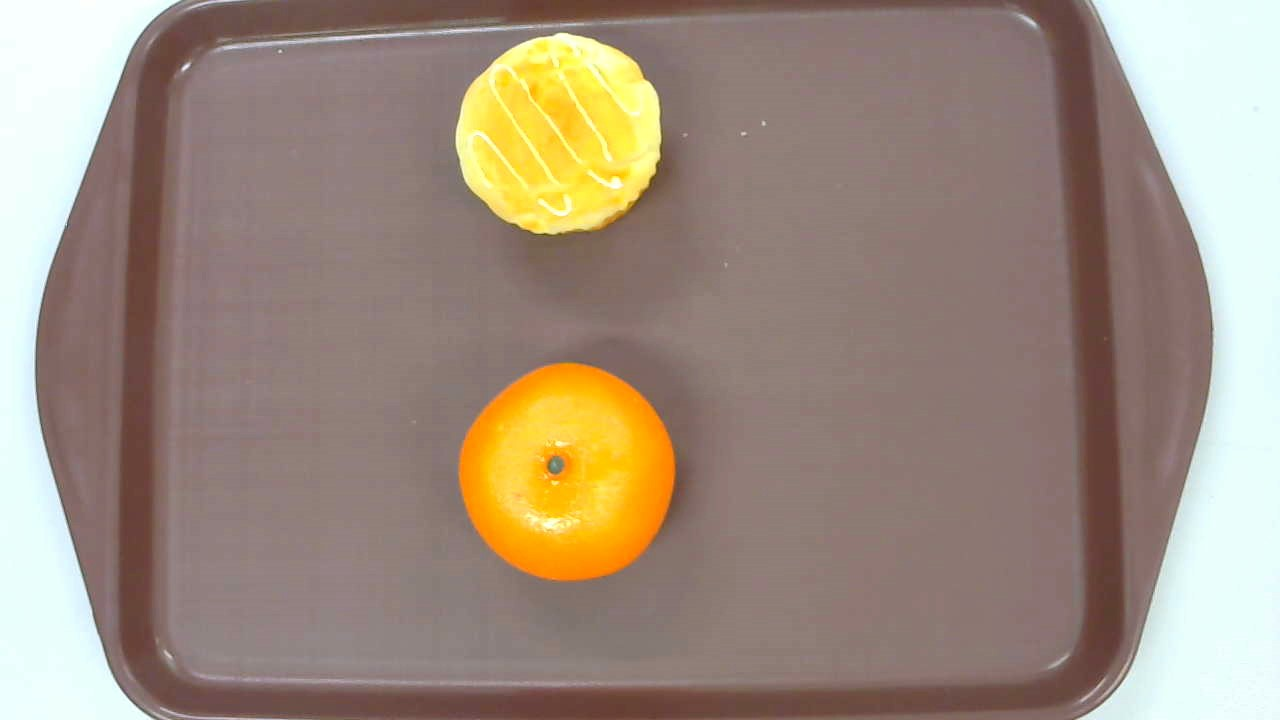cupcake: (454, 32, 663, 234)
orange: (457, 363, 677, 582)
